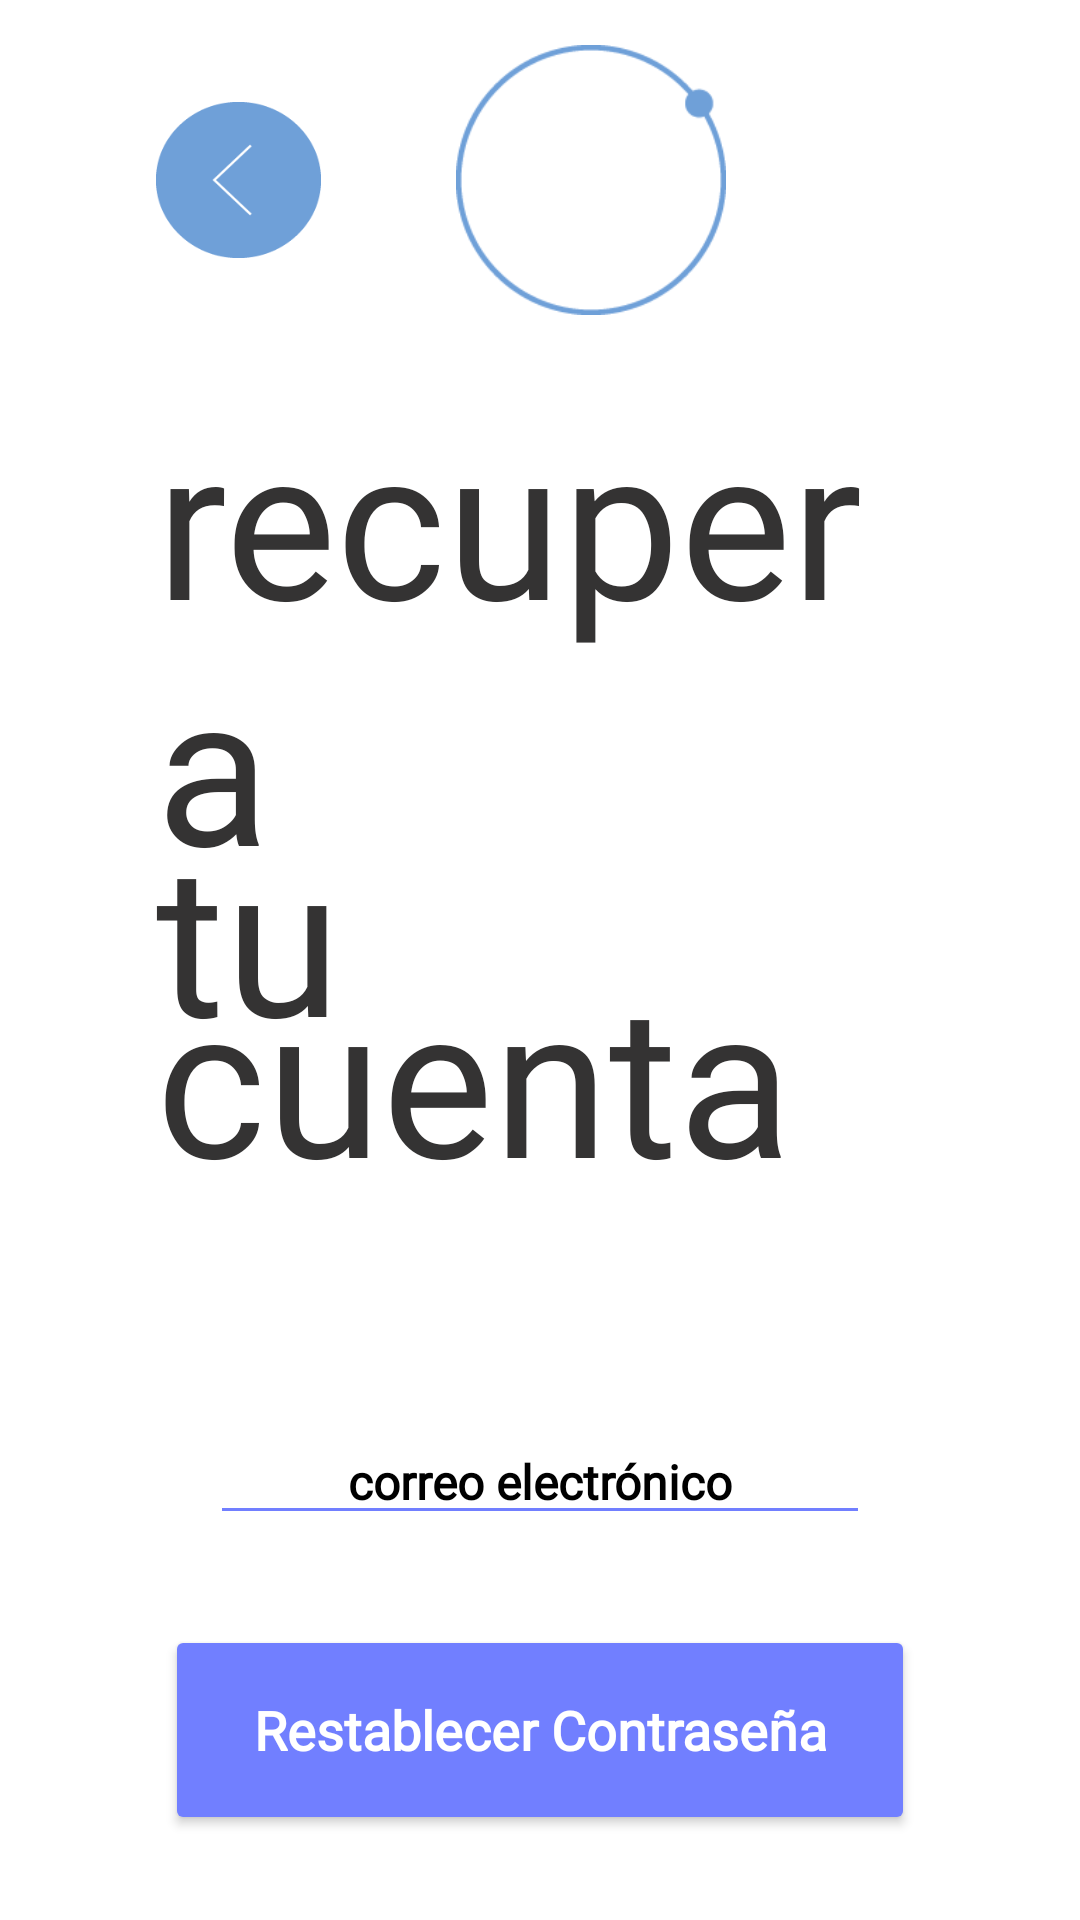

Icons on this 1080px x 1920px Android screen, each with the point to tap as (x,y):
regresar xxxdpi: (238,180)
